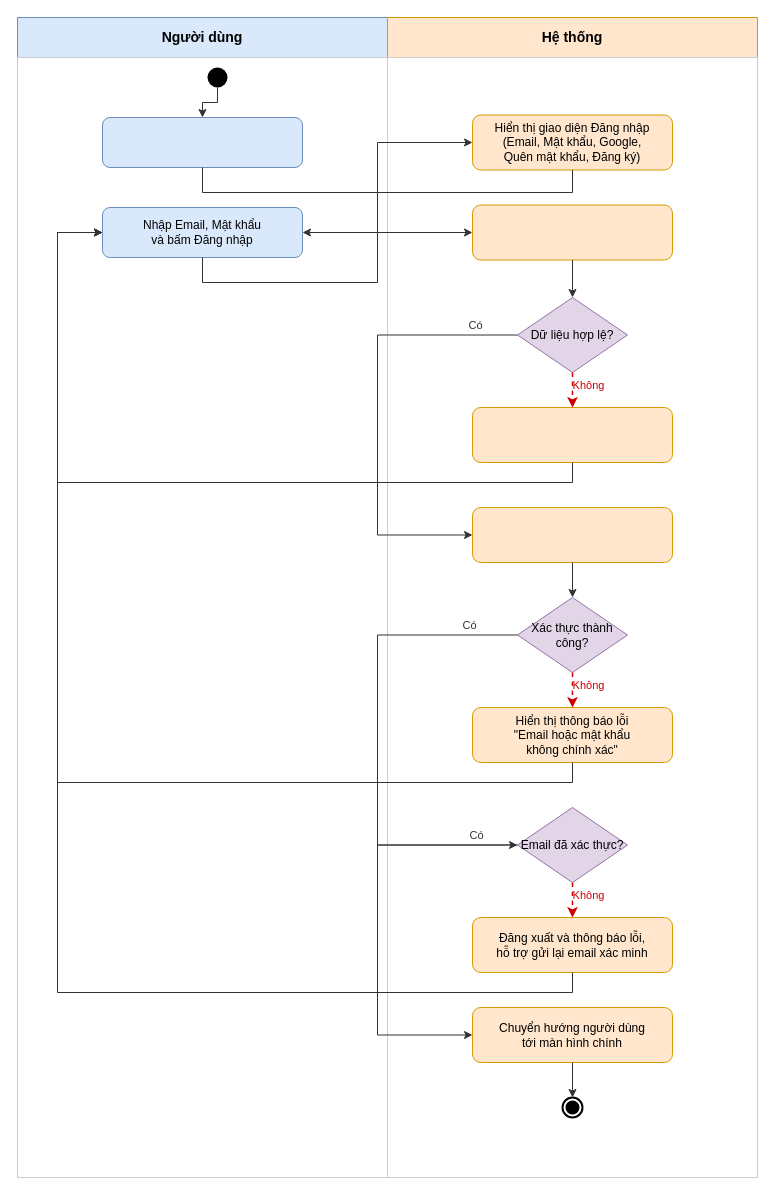
Some shapes in this 775 by 1195 pixel diagram are drawn without their labels. Here are the shapes that lost their labels. From the top down, the centre of each, then its label:
pixel 202 142: Người dùng chọn "Đăng nhập"
pixel 572 232: Xác thực tính hợp lệ của dữ liệu đầu vào
pixel 572 434: Hiển thị thông báo lỗi (thiếu thông tin, sai định dạng)
pixel 572 534: Gửi yêu cầu đăng nhập lên Firebase Auth
